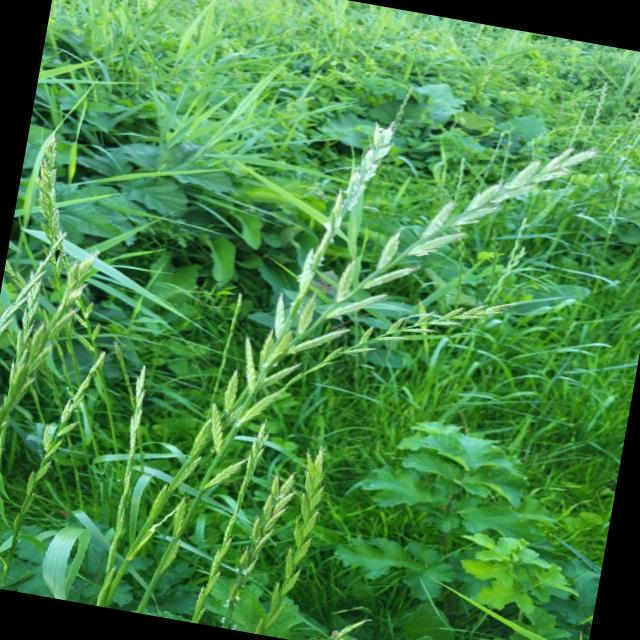Lolium: (52, 68, 588, 640), (278, 107, 398, 331), (0, 244, 95, 489), (185, 420, 269, 630), (15, 338, 105, 532), (255, 443, 336, 640), (219, 466, 299, 636), (20, 136, 88, 276), (110, 359, 152, 477), (226, 262, 230, 263)
